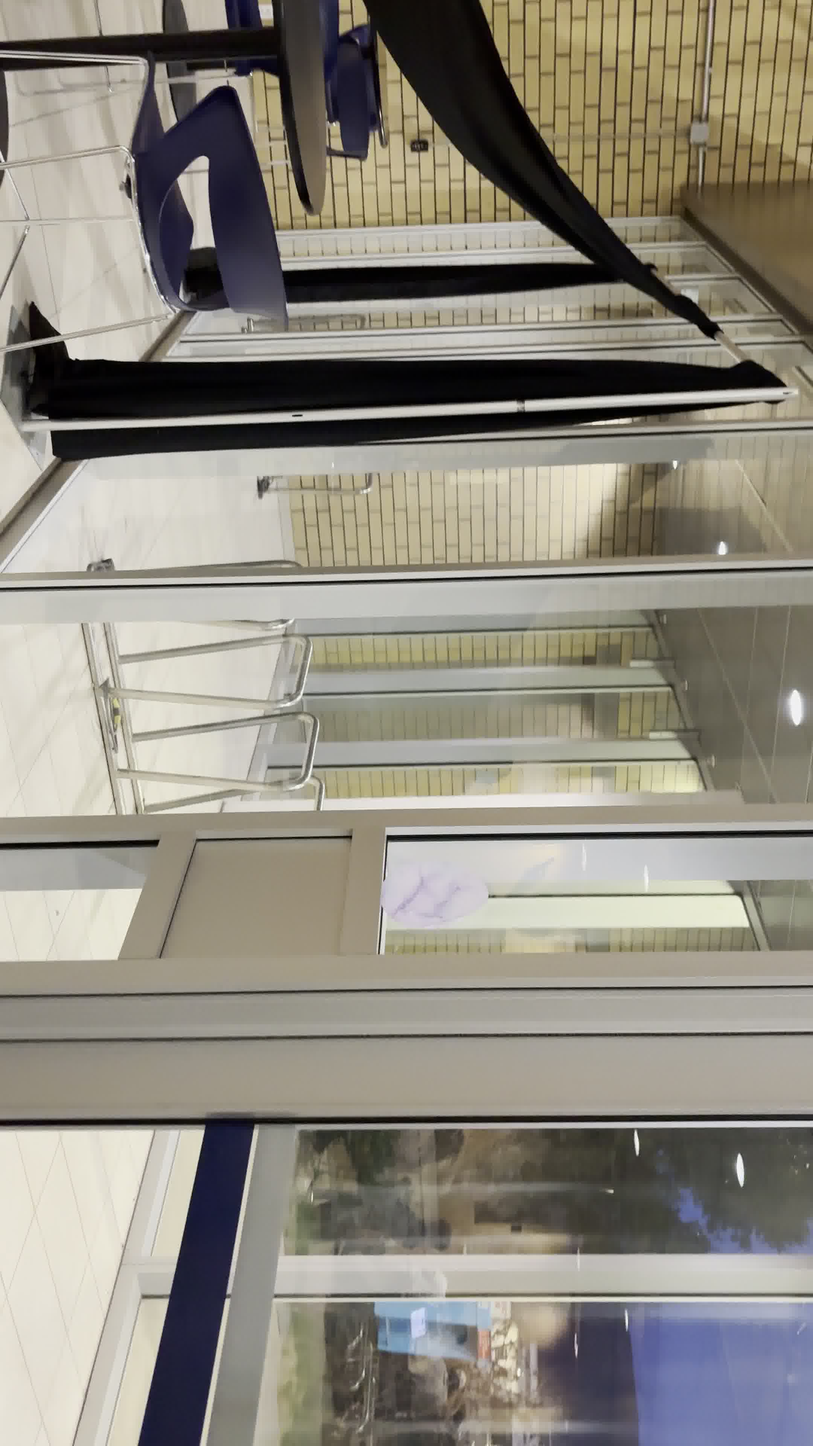Target: (378, 858, 492, 925)
